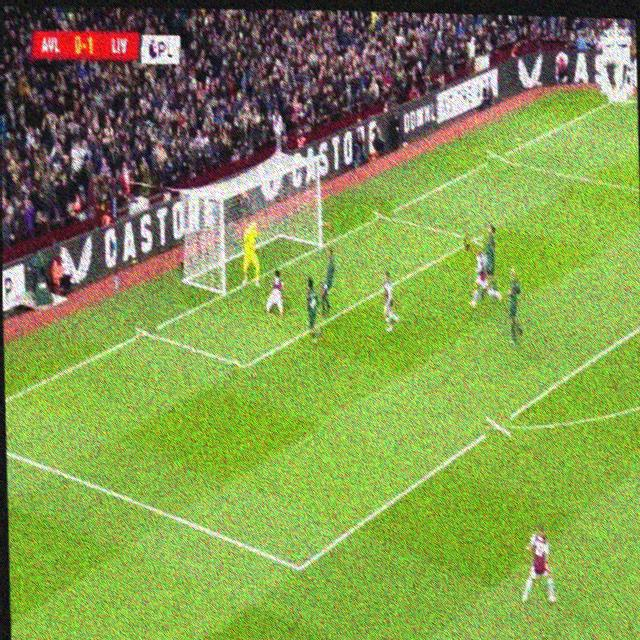bigarea_bottom_inner: (284, 549, 310, 584)
bigarea_top_outter: (486, 145, 504, 167)
bottom_arc_area_intersection: (484, 408, 510, 441)
corner: (603, 89, 625, 107)
smallarea_bottom_inner: (231, 347, 255, 380)
smallarea_bottom_outter: (134, 317, 156, 344)
smallarea_top_inner: (463, 226, 482, 251)
smallarea_top_outter: (372, 201, 392, 226)
